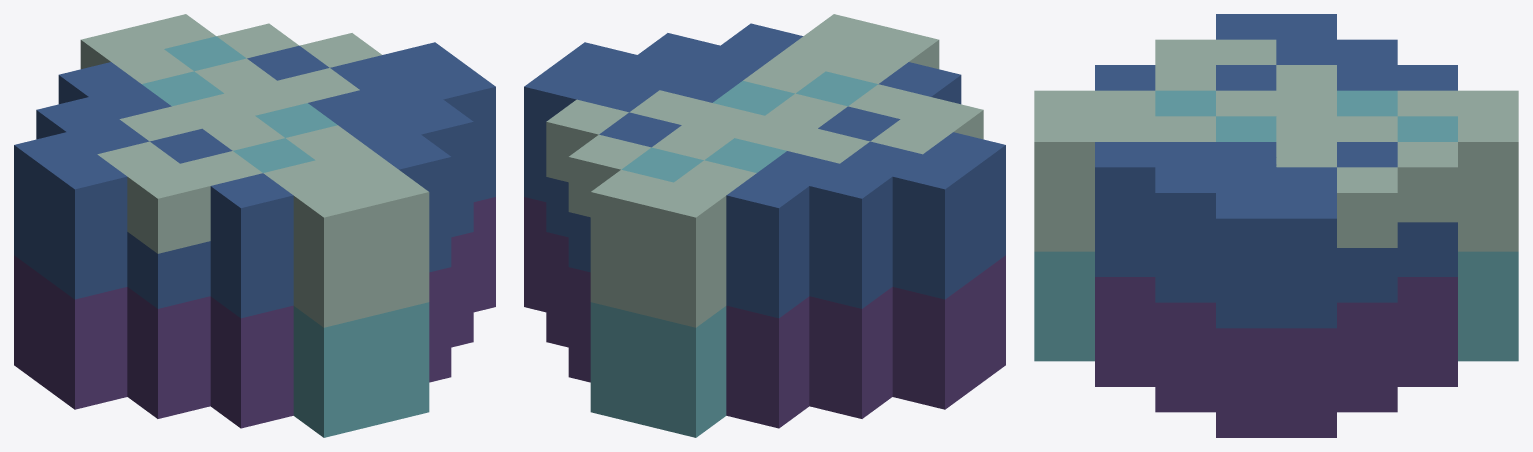
File: Pilar_3.glb
3 renders of one model, left to right at view 1: azimuth 30°, elevation 25°; view 2: azimuth 150°, elevation 25°; view 3: azimuth 270°, elevation 25°, orthographic.
Visible parts, largest first — view 1: Regalo; view 2: Regalo; view 3: Regalo.
Part boxes in pixels (x1,y1,x2,y2): Regalo: (14,14,495,437); Regalo: (524,14,1005,437); Regalo: (1034,14,1518,437).
Size of the model in its own units: 8 by 4 by 8.
